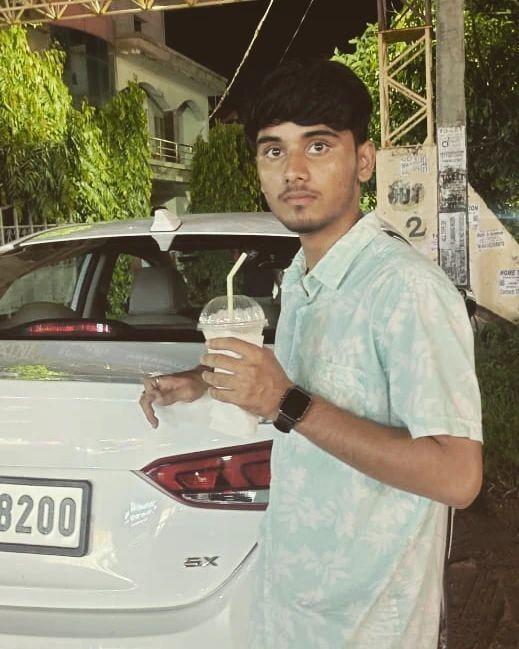cup-disposable: (198, 288, 268, 395)
